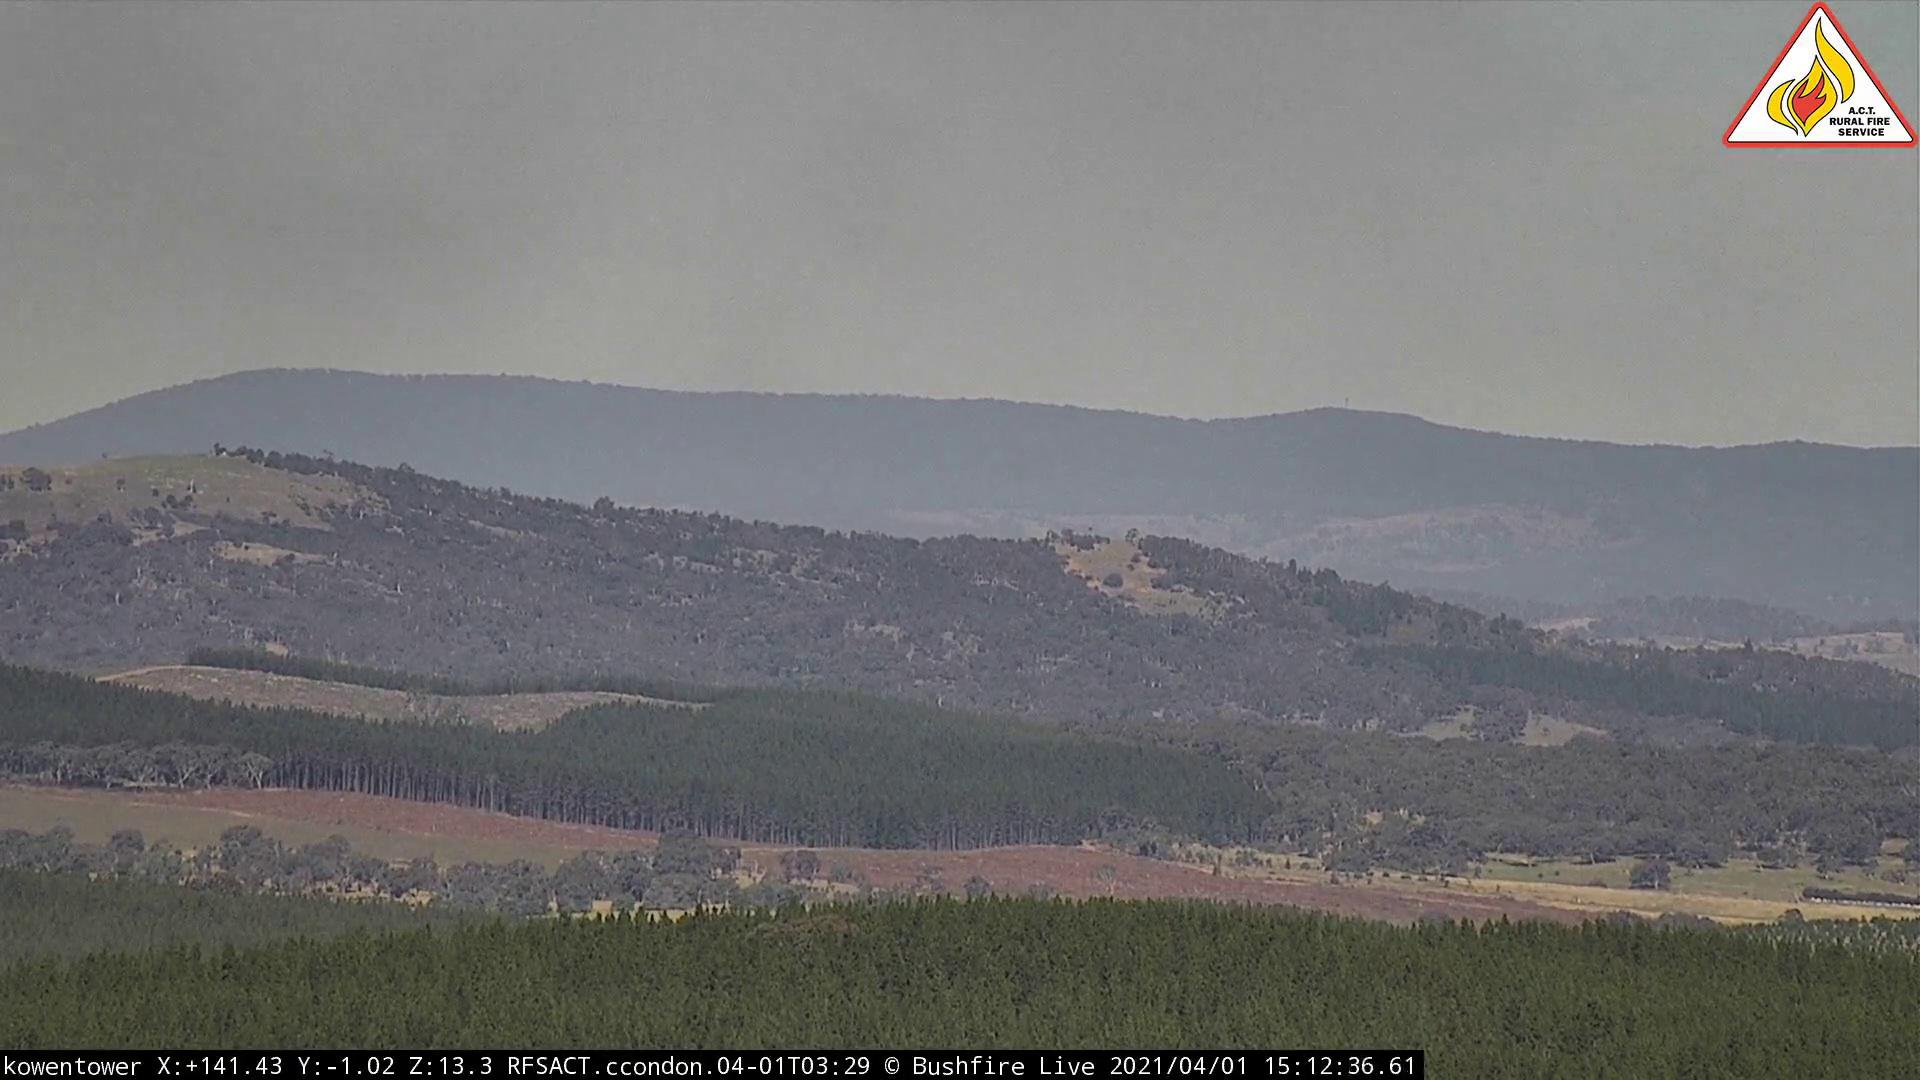Smoke: (3, 182, 899, 458)
